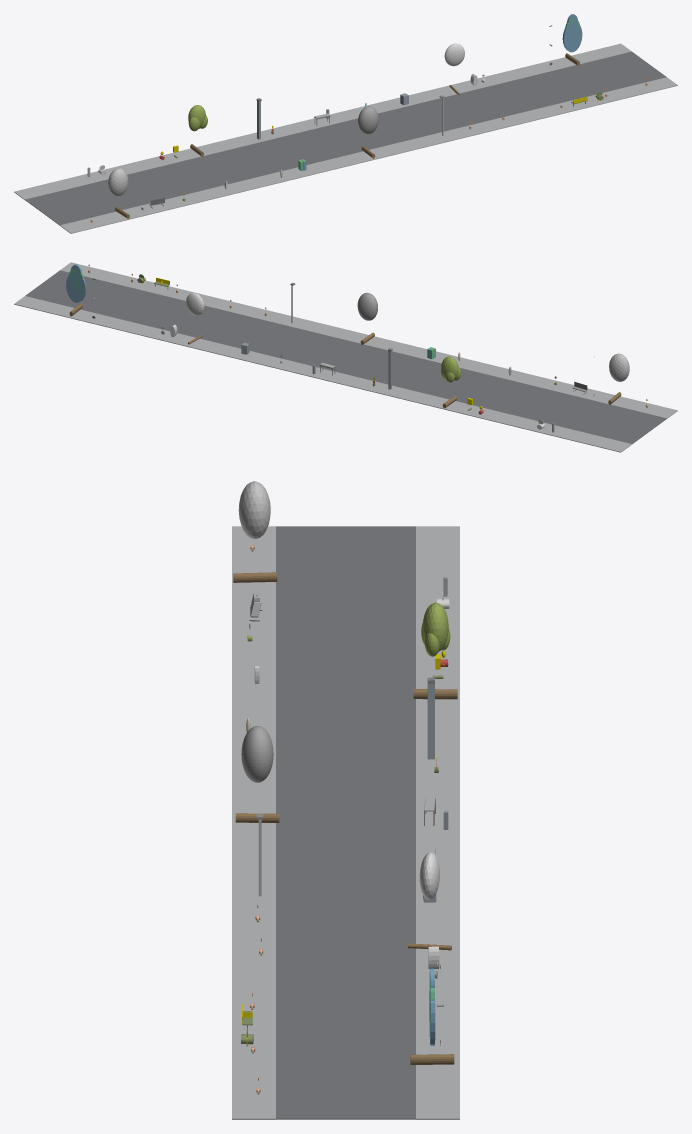
The picture shows the model from 3 angles, top to bottom: view 1: azimuth 30°, elevation 25°; view 2: azimuth 150°, elevation 25°; view 3: azimuth 270°, elevation 25°; orthographic projection. The views are drawn at different scales.
Visible parts, largest first — view 1: road_slab, sidewalk_left, sidewalk_right, inst_0016, inst_0012, inst_0014, inst_0013, inst_0015; view 2: road_slab, sidewalk_right, sidewalk_left, inst_0016, inst_0012, inst_0014, inst_0013, inst_0015; view 3: road_slab, sidewalk_left, sidewalk_right, inst_0012, inst_0014, inst_0013, inst_0015, inst_0016.
Part boxes in pixels (x1=…): road_slab: x1=25, y1=51, x2=666, y2=225; sidewalk_left: x1=60, y1=77, x2=677, y2=233; sidewalk_right: x1=14, y1=43, x2=631, y2=199; inst_0016: x1=562, y1=14, x2=582, y2=65; inst_0012: x1=108, y1=168, x2=129, y2=218; inst_0014: x1=358, y1=106, x2=378, y2=158; inst_0013: x1=188, y1=105, x2=207, y2=156; inst_0015: x1=444, y1=43, x2=464, y2=95; road_slab: x1=25, y1=270, x2=666, y2=444; sidewalk_right: x1=14, y1=296, x2=631, y2=452; sidewalk_left: x1=60, y1=262, x2=677, y2=418; inst_0016: x1=66, y1=264, x2=86, y2=316; inst_0012: x1=608, y1=353, x2=629, y2=404; inst_0014: x1=357, y1=292, x2=377, y2=344; inst_0013: x1=440, y1=356, x2=460, y2=408; inst_0015: x1=186, y1=293, x2=204, y2=344; road_slab: x1=276, y1=526, x2=415, y2=1119; sidewalk_left: x1=232, y1=526, x2=275, y2=1119; sidewalk_right: x1=416, y1=526, x2=459, y2=1119; inst_0012: x1=233, y1=481, x2=277, y2=582; inst_0014: x1=235, y1=726, x2=279, y2=822; inst_0013: x1=413, y1=602, x2=457, y2=699; inst_0015: x1=408, y1=852, x2=451, y2=950; inst_0016: x1=410, y1=968, x2=454, y2=1064.
Bounding box in the file's own units: 80 × 6.08 × 13.
